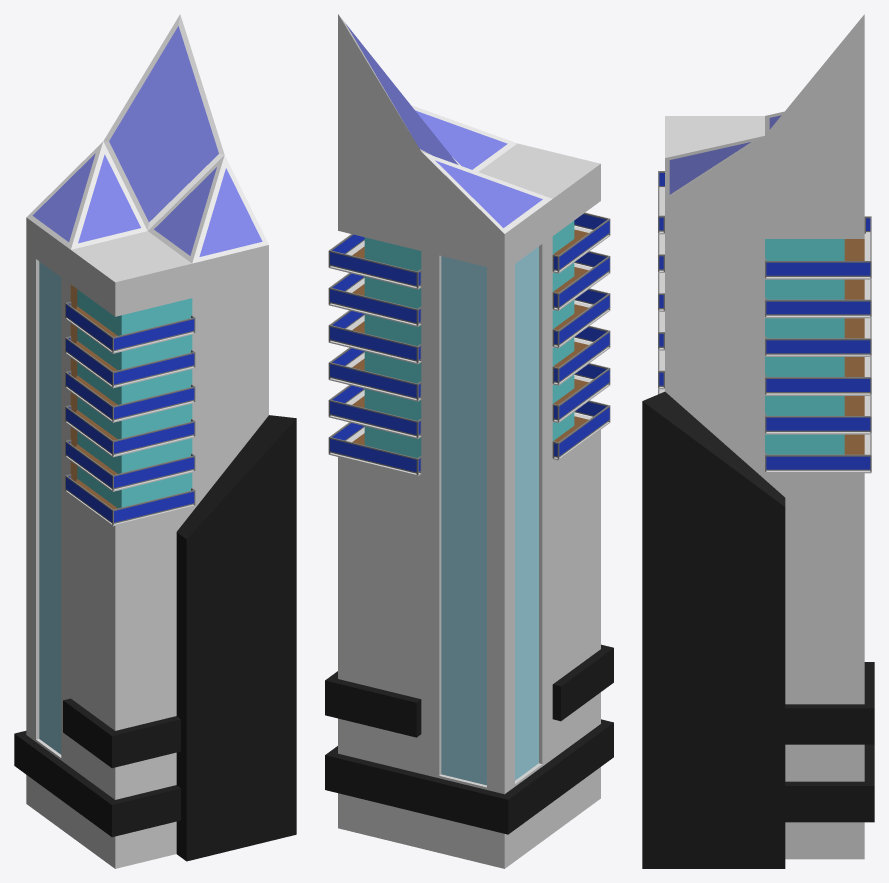
Rendered from skyrise_pointy.fbx.
3 renders of one model, left to right at view 1: azimuth 30°, elevation 25°; view 2: azimuth 150°, elevation 25°; view 3: azimuth 270°, elevation 25°, orthographic. The views are drawn at different scales.
Visible parts, largest first — view 1: skyrise_pointy; view 2: skyrise_pointy; view 3: skyrise_pointy.
Part boxes in pixels (x1=…): skyrise_pointy: x1=14, y1=14, x2=296, y2=868; skyrise_pointy: x1=325, y1=14, x2=613, y2=868; skyrise_pointy: x1=642, y1=14, x2=874, y2=868.
Bounding box in the file's own units: 1629 × 6542 × 1629.
